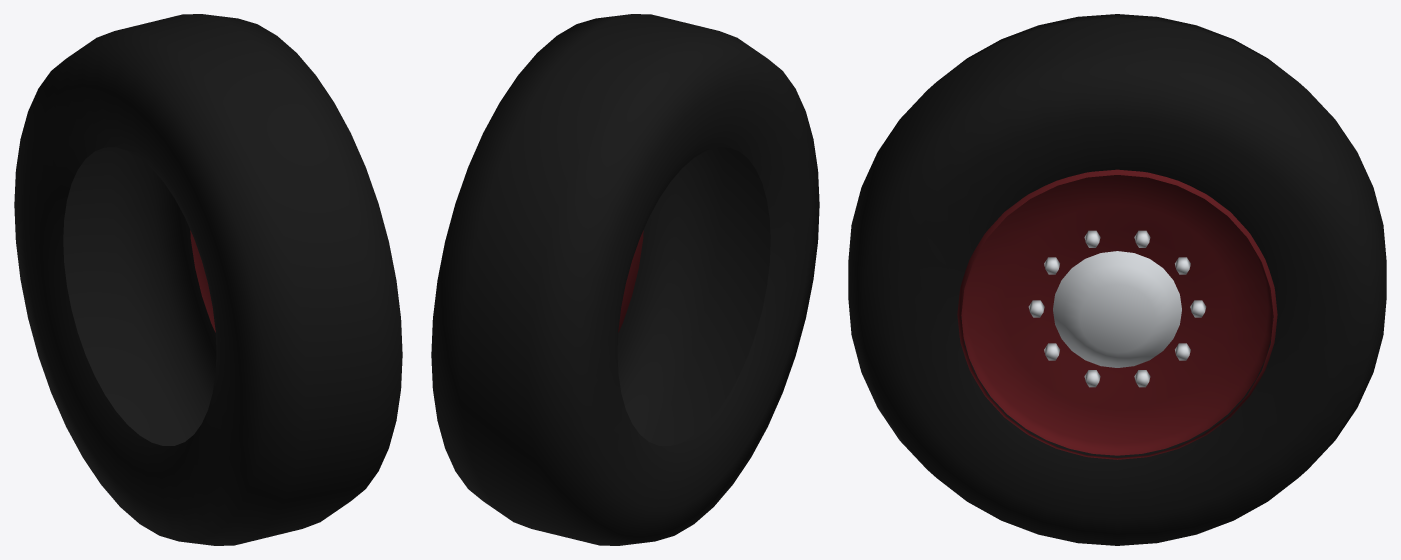
Rendered from buswheel.glb.
3 renders of one model, left to right at view 1: azimuth 30°, elevation 25°; view 2: azimuth 150°, elevation 25°; view 3: azimuth 270°, elevation 25°, orthographic.
Visible parts, largest first — view 1: hub; view 2: hub; view 3: hub.
Part boxes in pixels (x1,y1,x2,y2): hub: (14, 14, 402, 545); hub: (431, 14, 819, 545); hub: (848, 14, 1386, 545).
Bounding box in the file's own units: 0.675 × 2 × 2.
